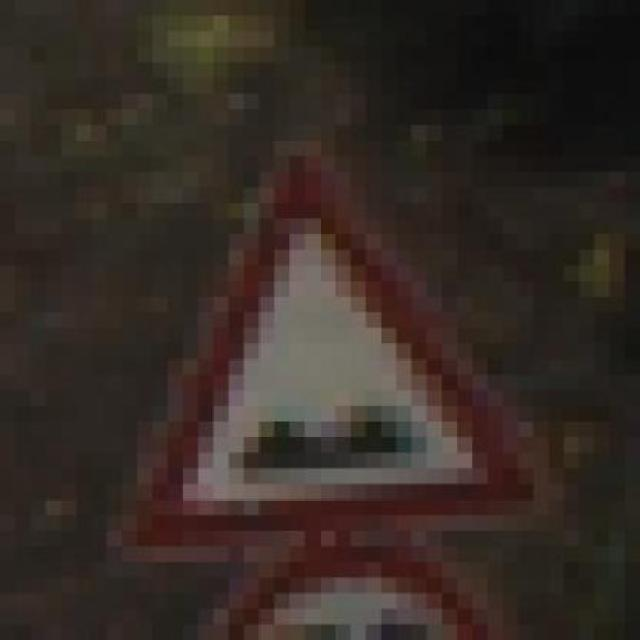Uneven Road: (91, 125, 564, 546)
